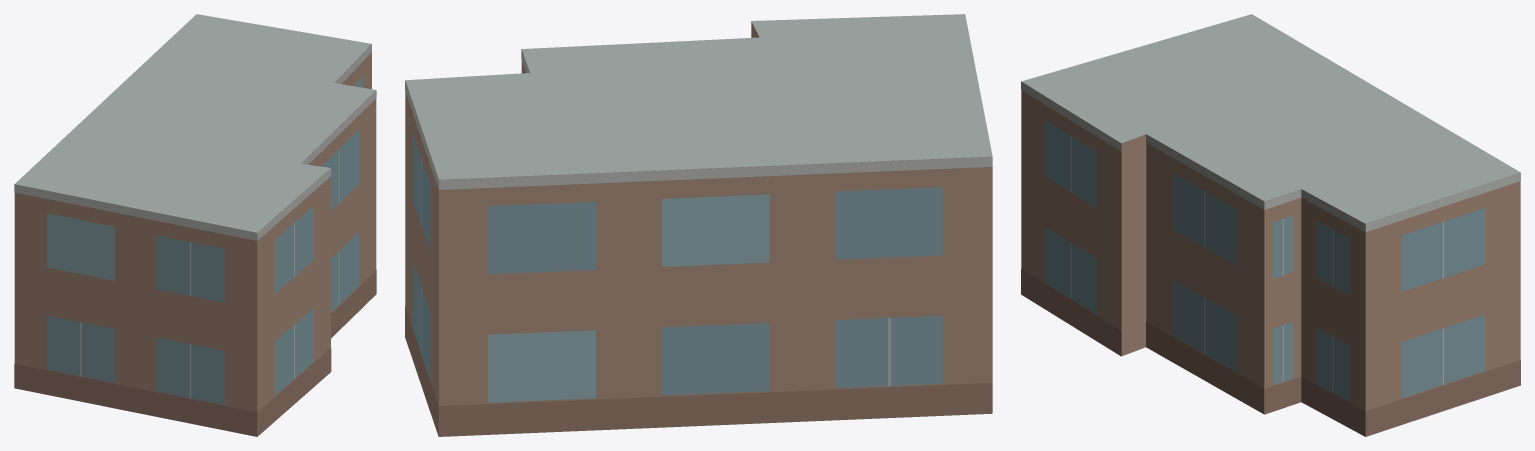
File: survey-upis-32772487.glb
3 views of the same model, side by side, from view 1: azimuth 30°, elevation 25°; view 2: azimuth 150°, elevation 25°; view 3: azimuth 270°, elevation 25° (orthographic). The views are drawn at different scales.
Parts seen in each view (by area): view 1: survey-upis-32772487.tmp; view 2: survey-upis-32772487.tmp; view 3: survey-upis-32772487.tmp.
Boxes of the visible parts, x1,y1,x2,y2 form: survey-upis-32772487.tmp: (14,14,376,436); survey-upis-32772487.tmp: (405,14,992,436); survey-upis-32772487.tmp: (1021,14,1520,436).
Size of the model in its own units: 12.89 by 6.1 by 12.97.
